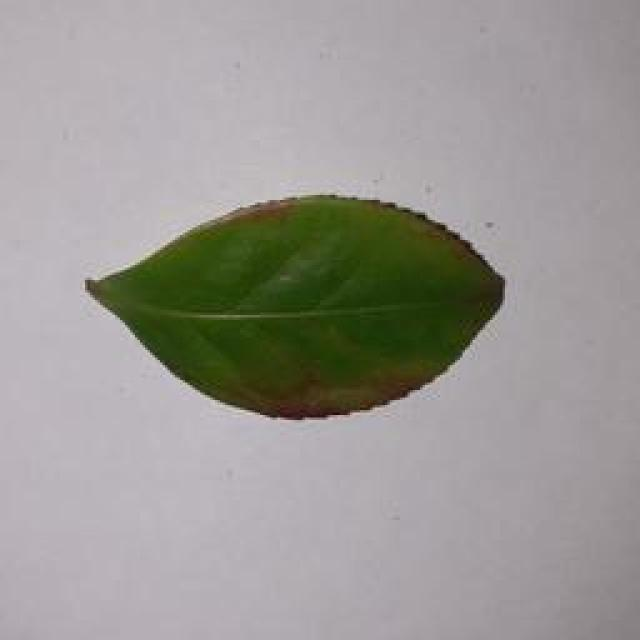Red Leaf Spot: (64, 189, 518, 430)
